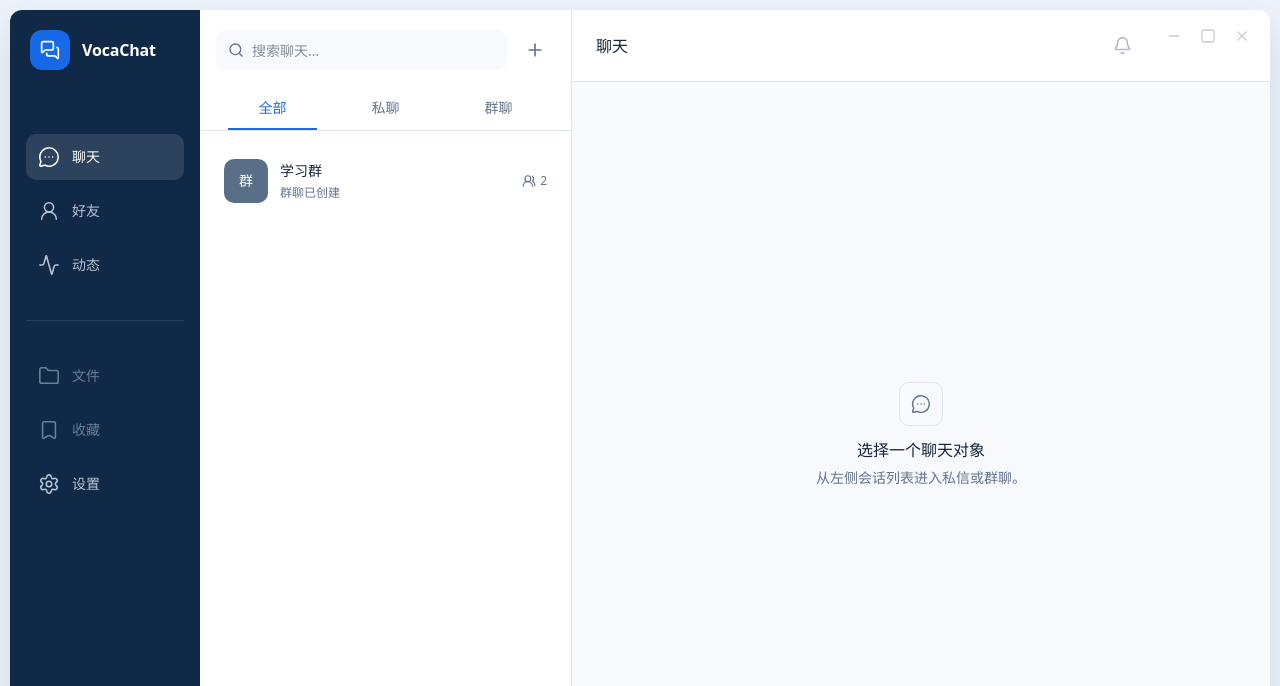
VocaChatApp › 设置中可以进入与好友自主互动同级的账号资料编辑页
Click the button "设置": {"x": 105, "y": 484} x1=26 y1=461 x2=184 y2=507
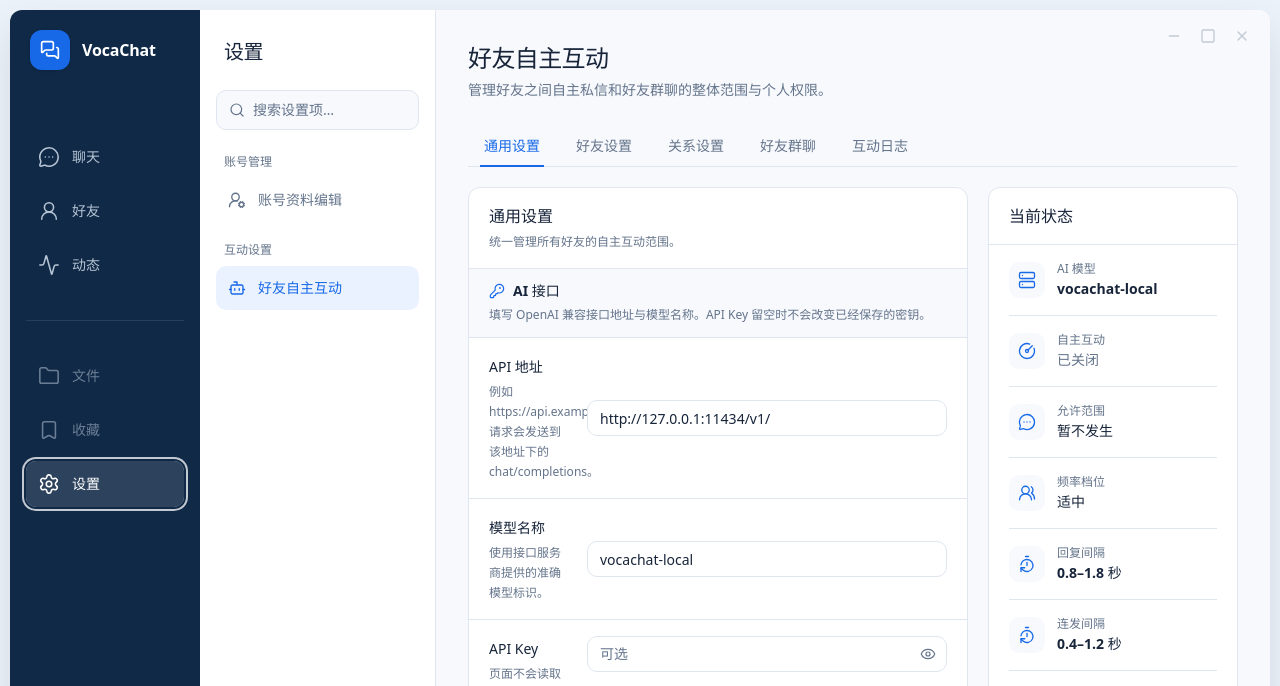
Click the button "账号资料编辑": {"x": 318, "y": 200} x1=216 y1=178 x2=419 y2=222
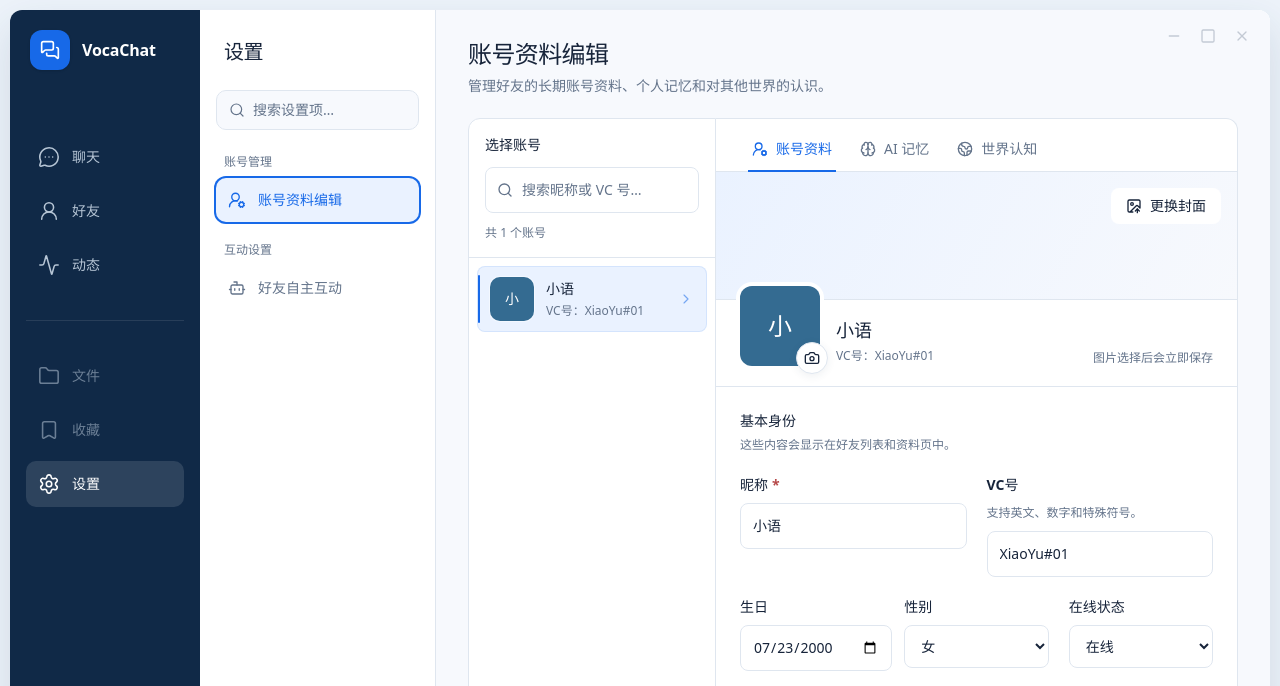
Check: the heading "账号资料编辑" is shown, box x1=468 y1=37 x2=608 y2=70
Check: the field labelled "昵称" holds "小语", box x1=740 y1=503 x2=966 y2=549
Check: the tab "AI 记忆" is shown, box x1=848 y1=127 x2=941 y2=171
